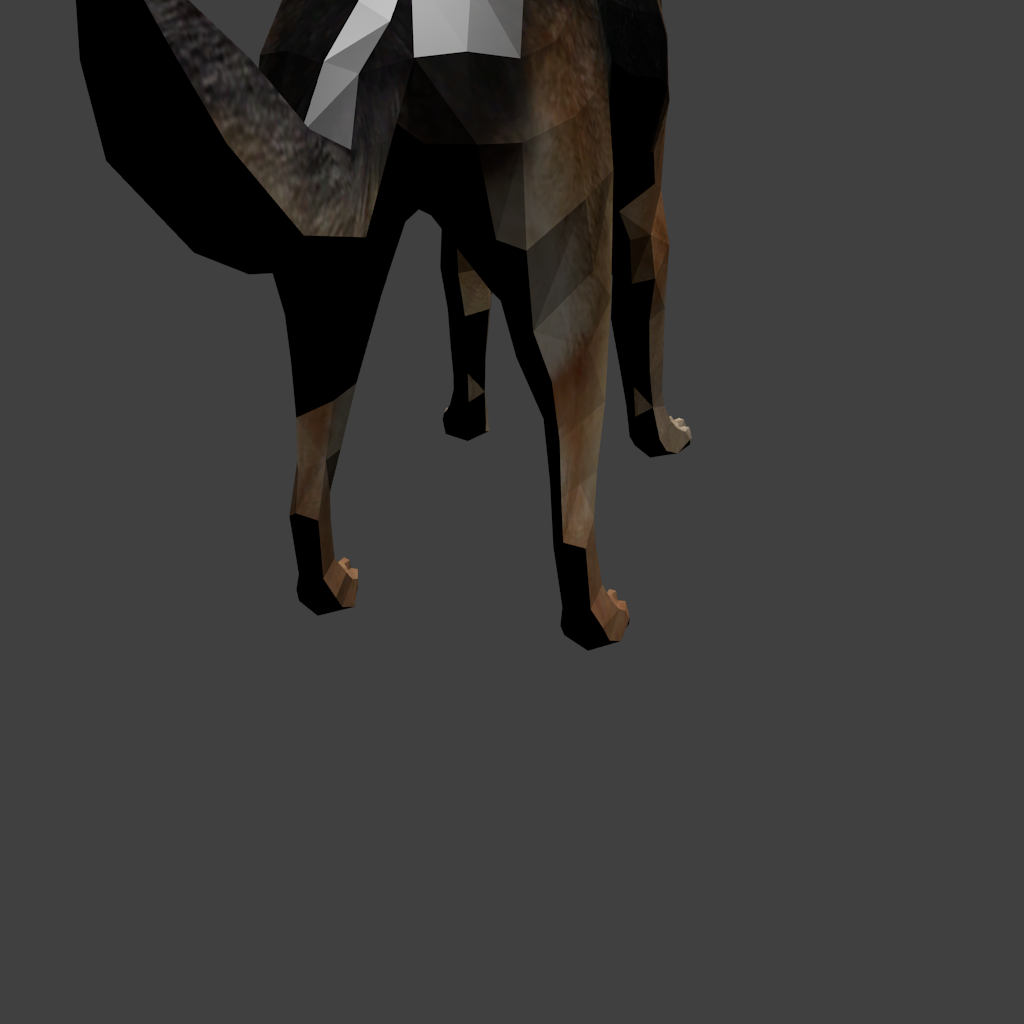Dog: (73, 0, 619, 651)
